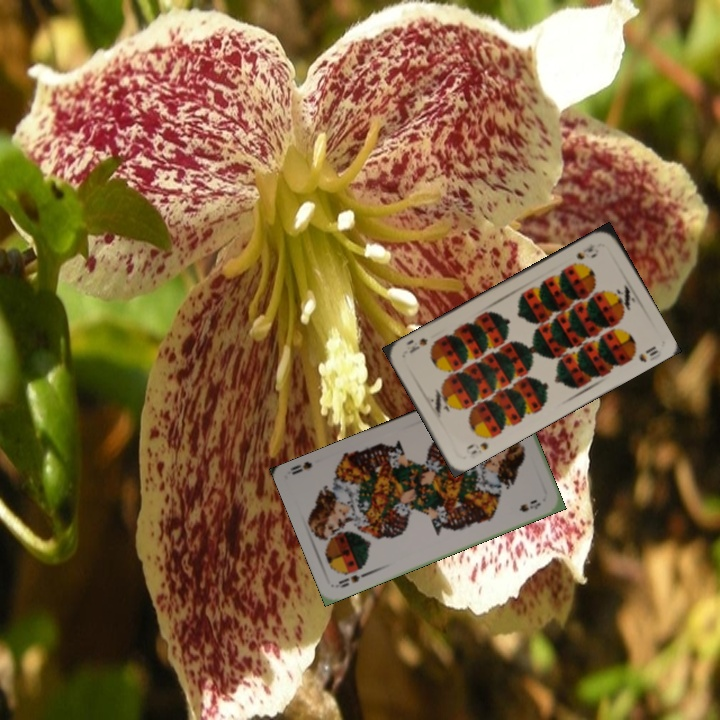S10: (573, 239, 597, 262), (462, 438, 491, 457)
SO: (334, 568, 372, 591)
